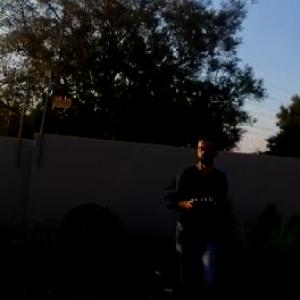follow: (165, 126, 235, 299)
